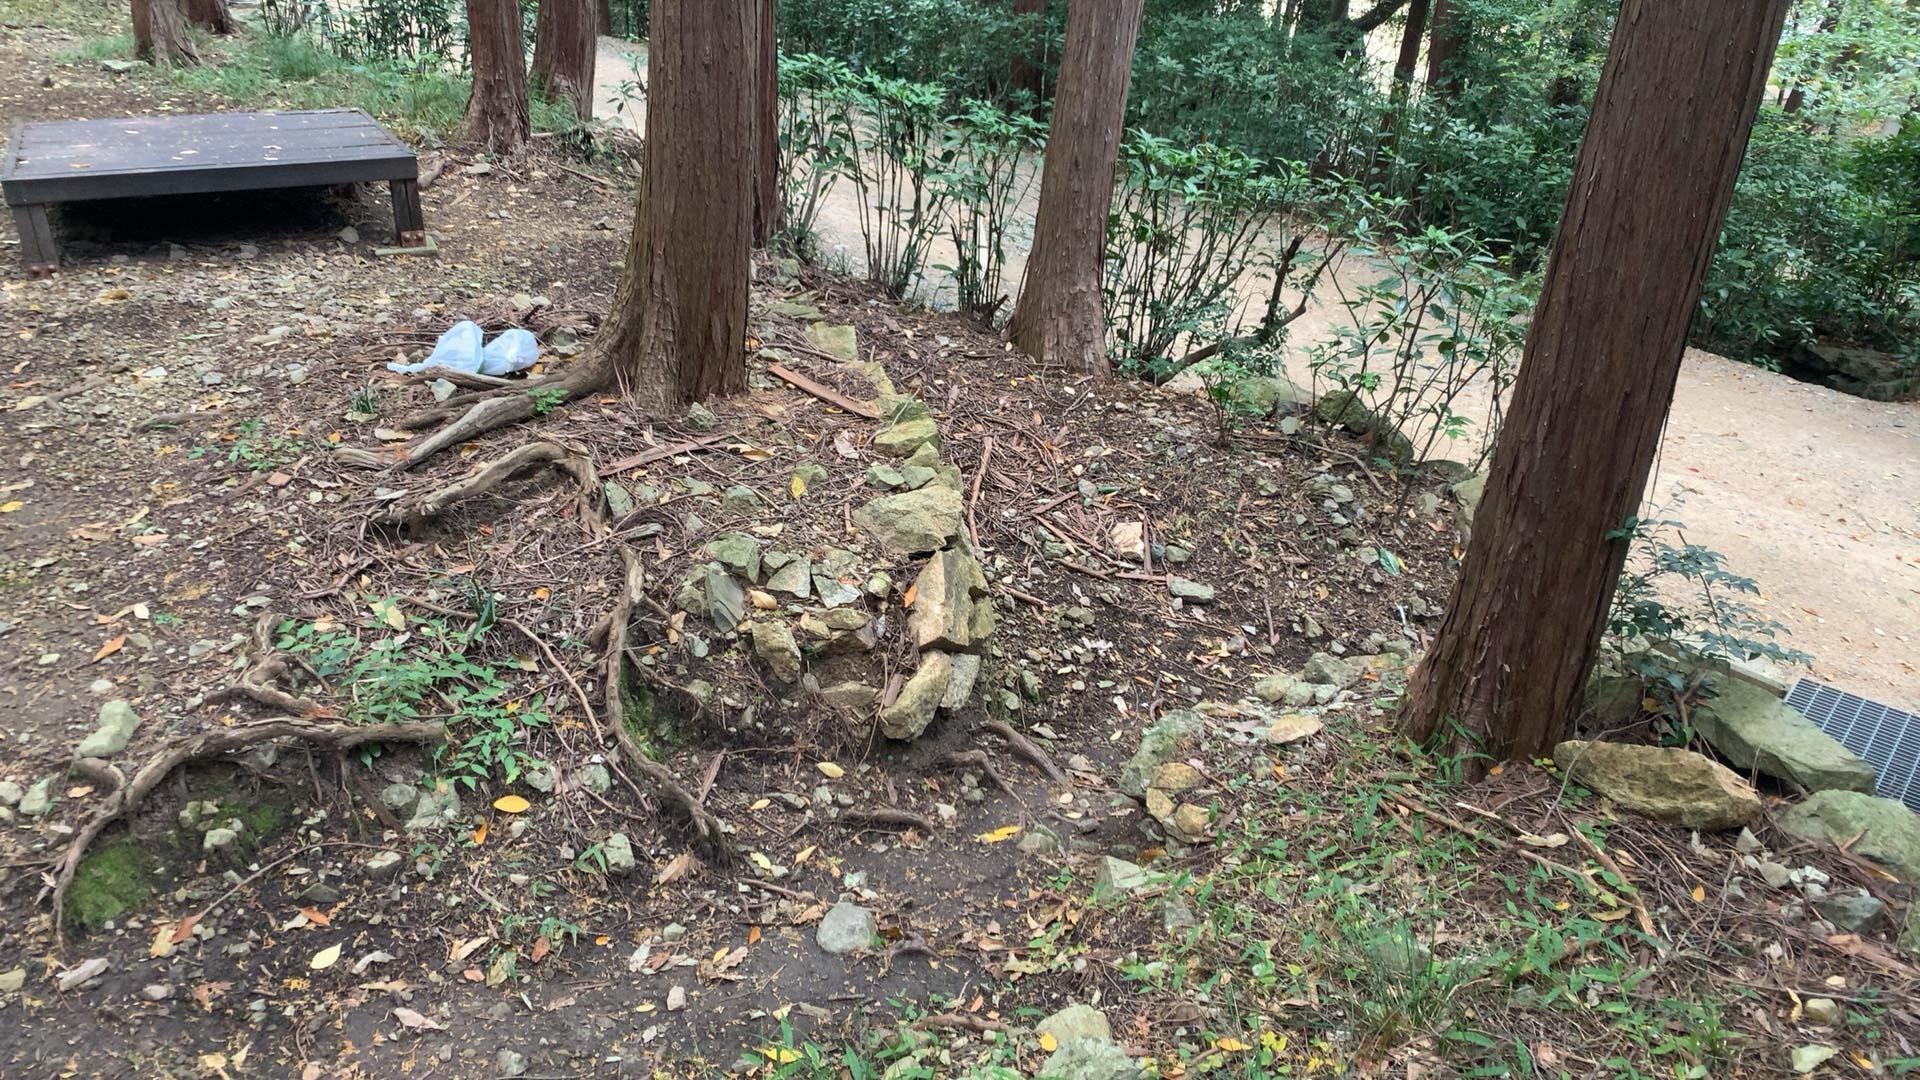white_bag: (381, 316, 487, 384), (475, 326, 539, 378)
